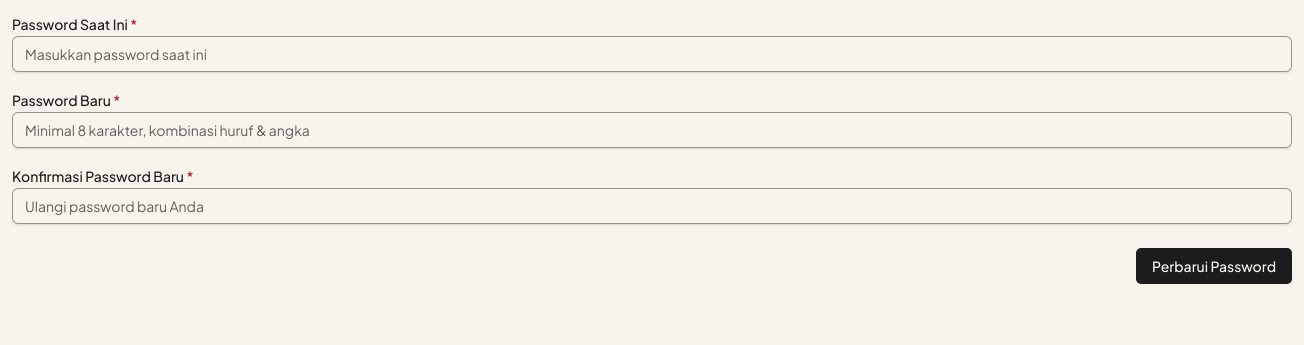
Test: ChangePasswordForm › validates password mismatch and min length requirements
In the password field labelled "Password Saat Ini *": (652, 54) 12,36 -> 1292,72, type "OldPassword123"
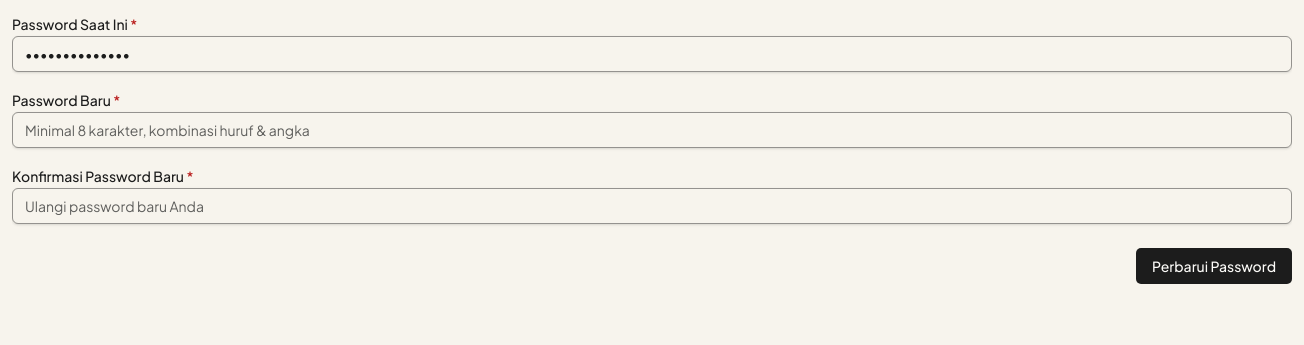
In the password field labelled "Password Baru *": (652, 130) 12,112 -> 1292,148, type "short1"
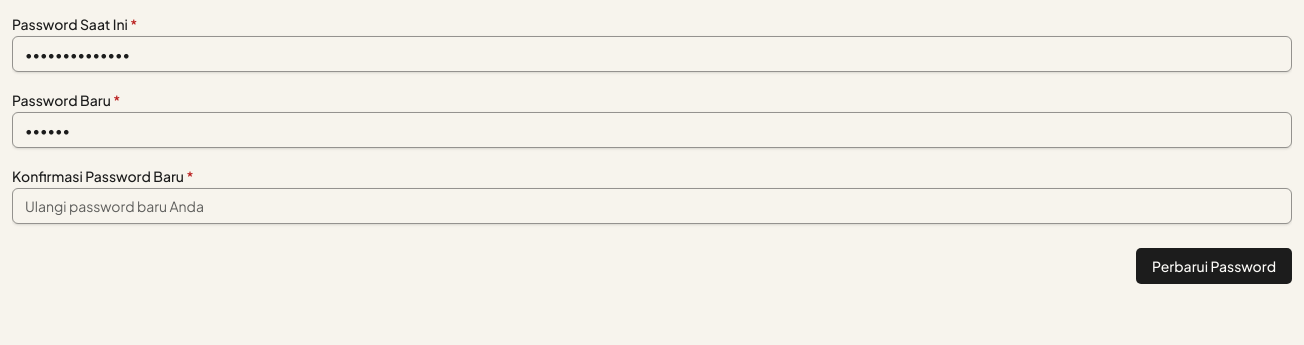
In the password field labelled "Konfirmasi Password Baru *": (652, 206) 12,188 -> 1292,224, type "different123"
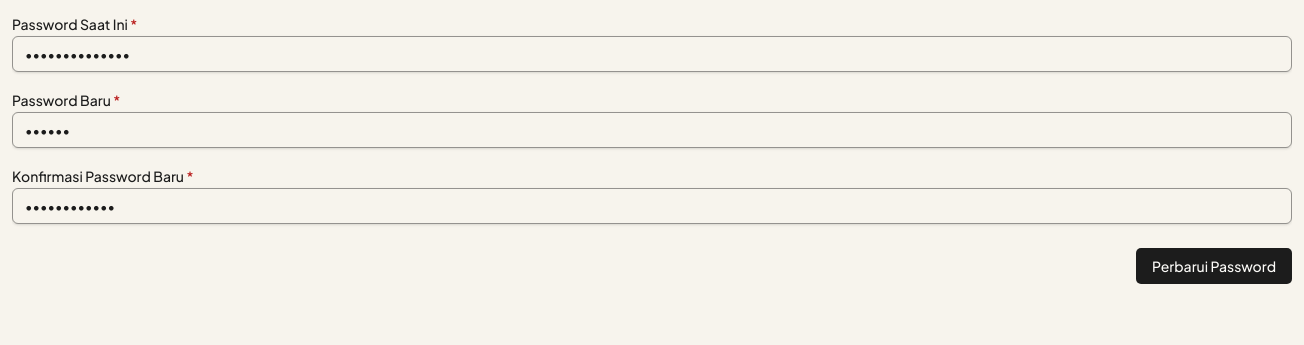
Click the button "Perbarui Password": (1214, 266) 1136,248 -> 1292,284
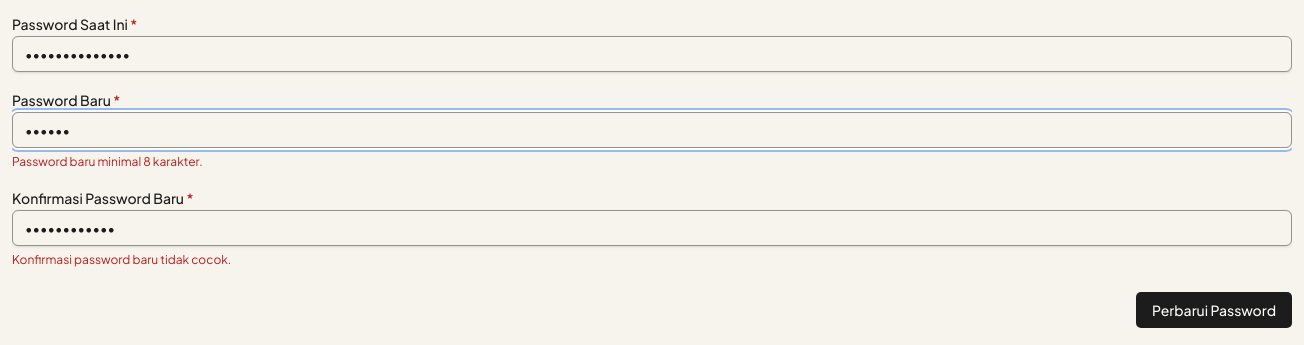
Expected: the text "Password baru minimal 8 karakter." is shown, 12,154 -> 203,169
Expected: the text "Konfirmasi password baru tidak cocok." is shown, 12,252 -> 231,267
